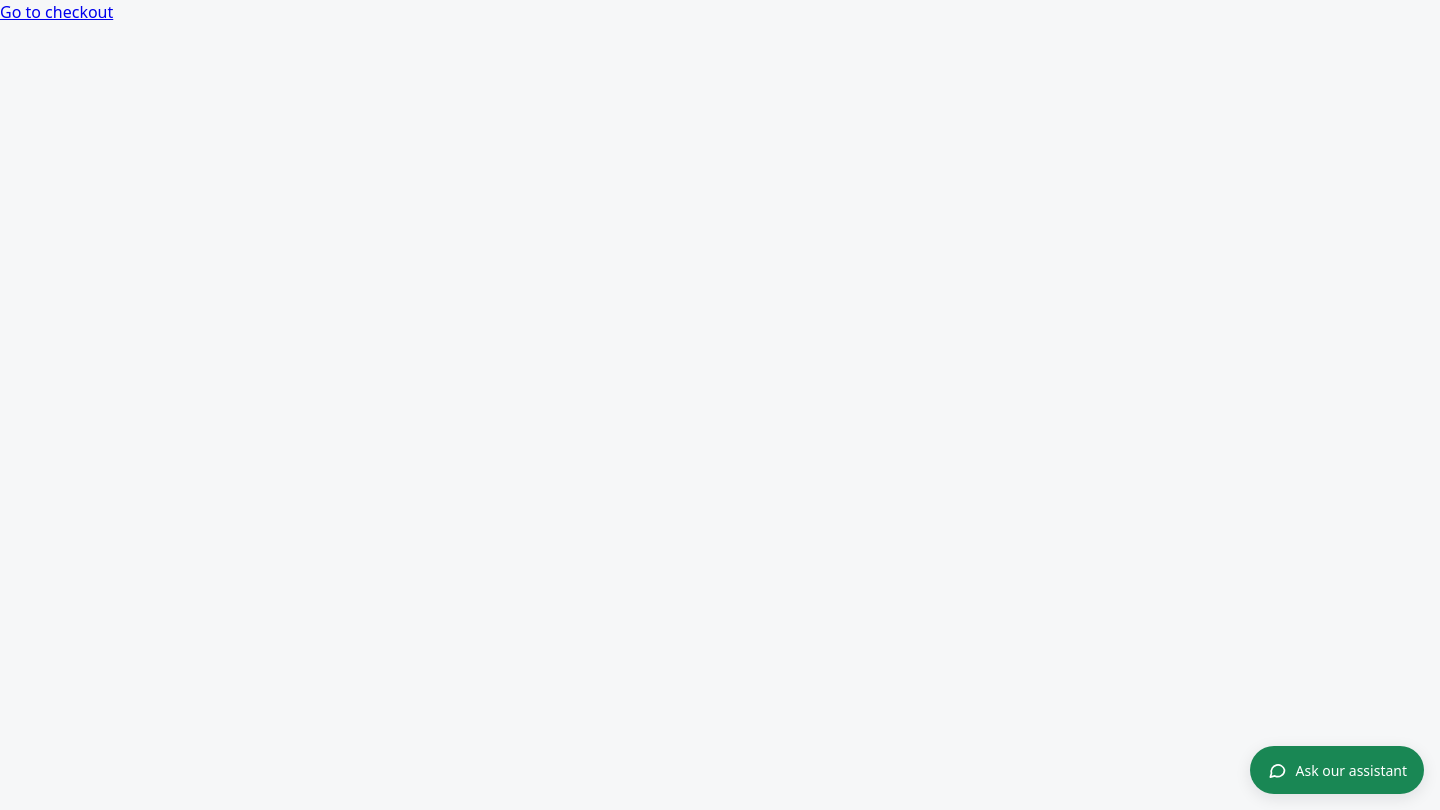
Scenario: ChatWidget › opens from the button with the focus in the message field, and closes with Escape, back to the button
The width and height of the screenshot is (1440, 810).
Click the button "Ask our assistant".
click(1337, 770)  # box x1=1250 y1=746 x2=1424 y2=794
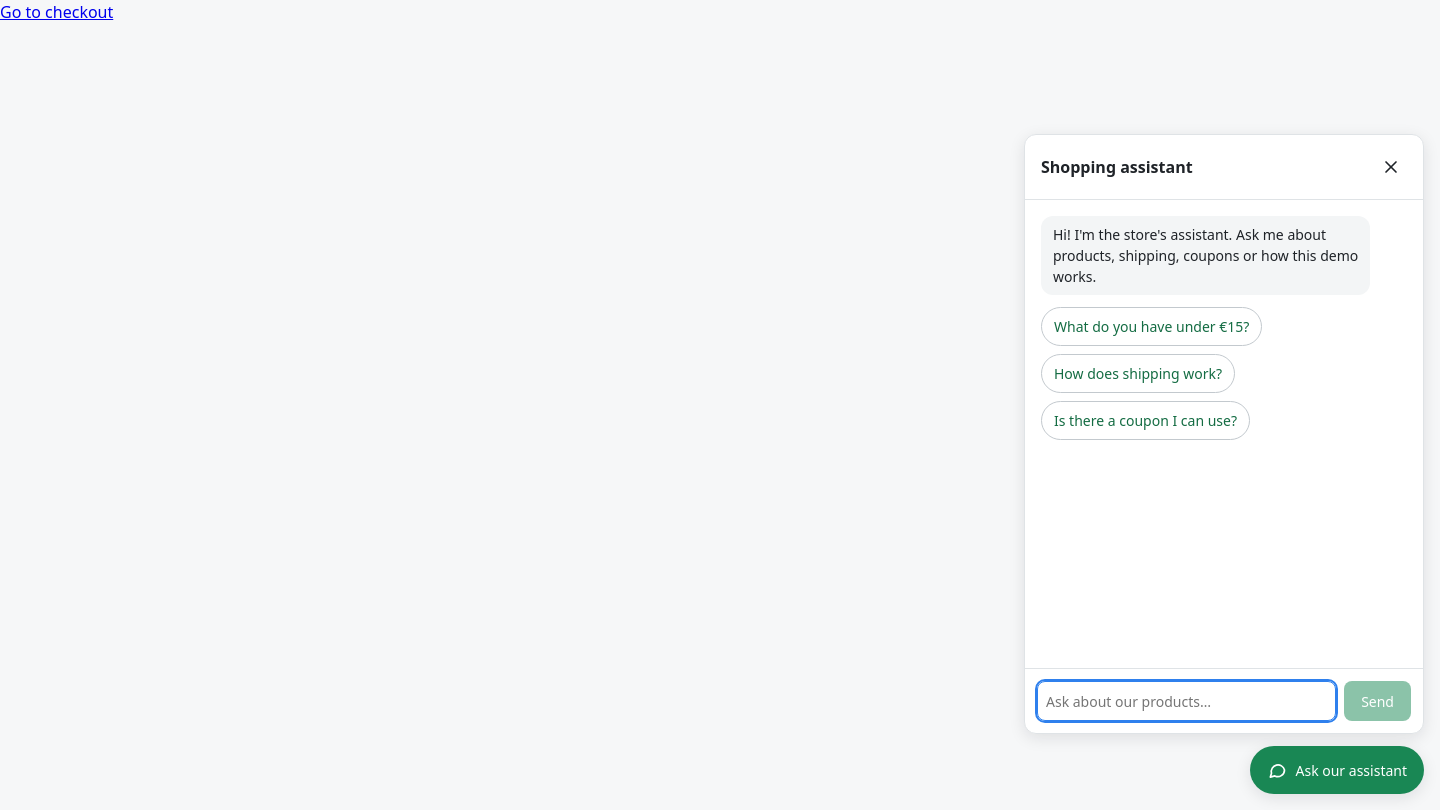
expect the text "I'm the store's assistant" is shown: met, box x1=1053 y1=225 x2=1362 y2=286
Press Escape
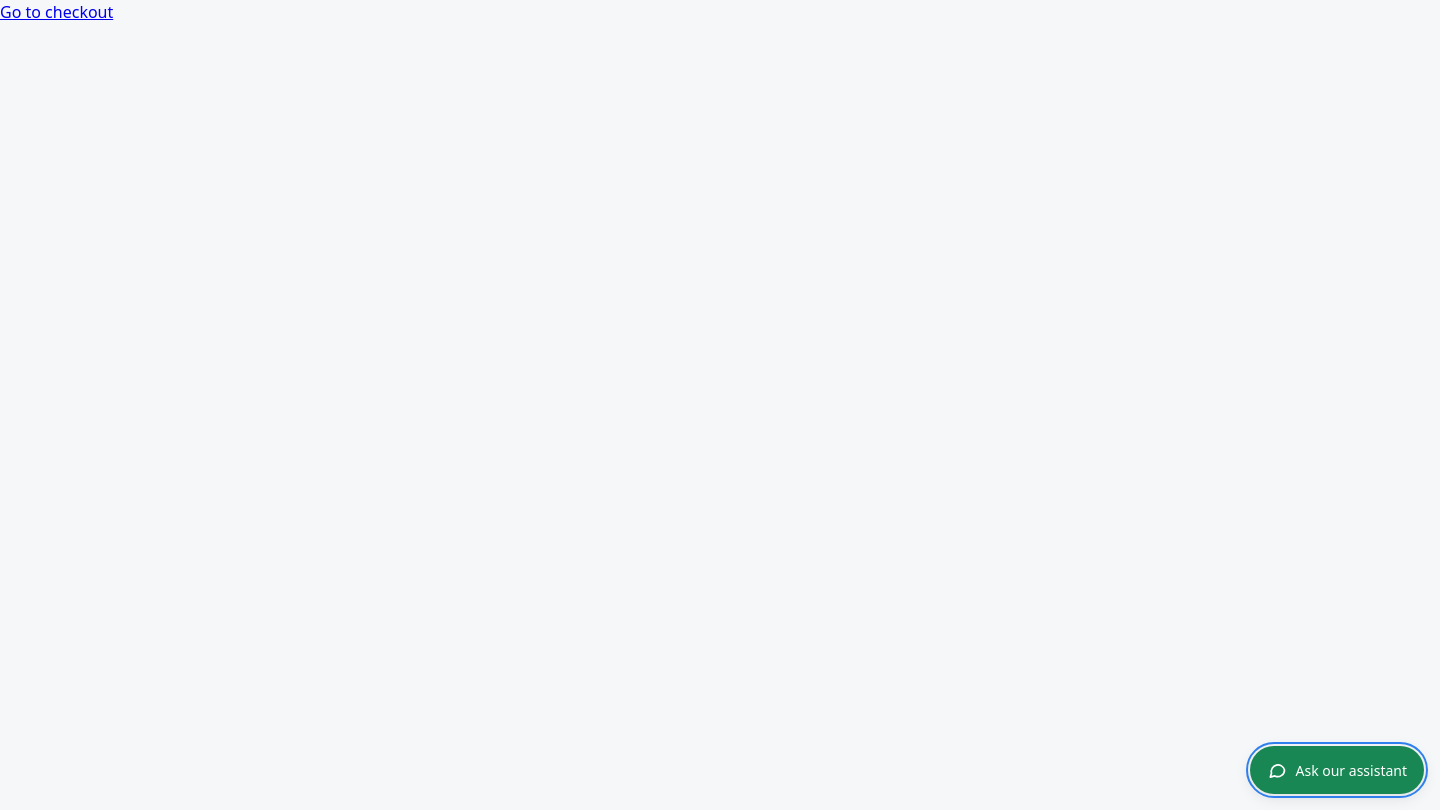
expect the dialog with test id "chat-panel" is gone: met
Click the button "Ask our assistant".
click(1337, 770)  # box x1=1250 y1=746 x2=1424 y2=794
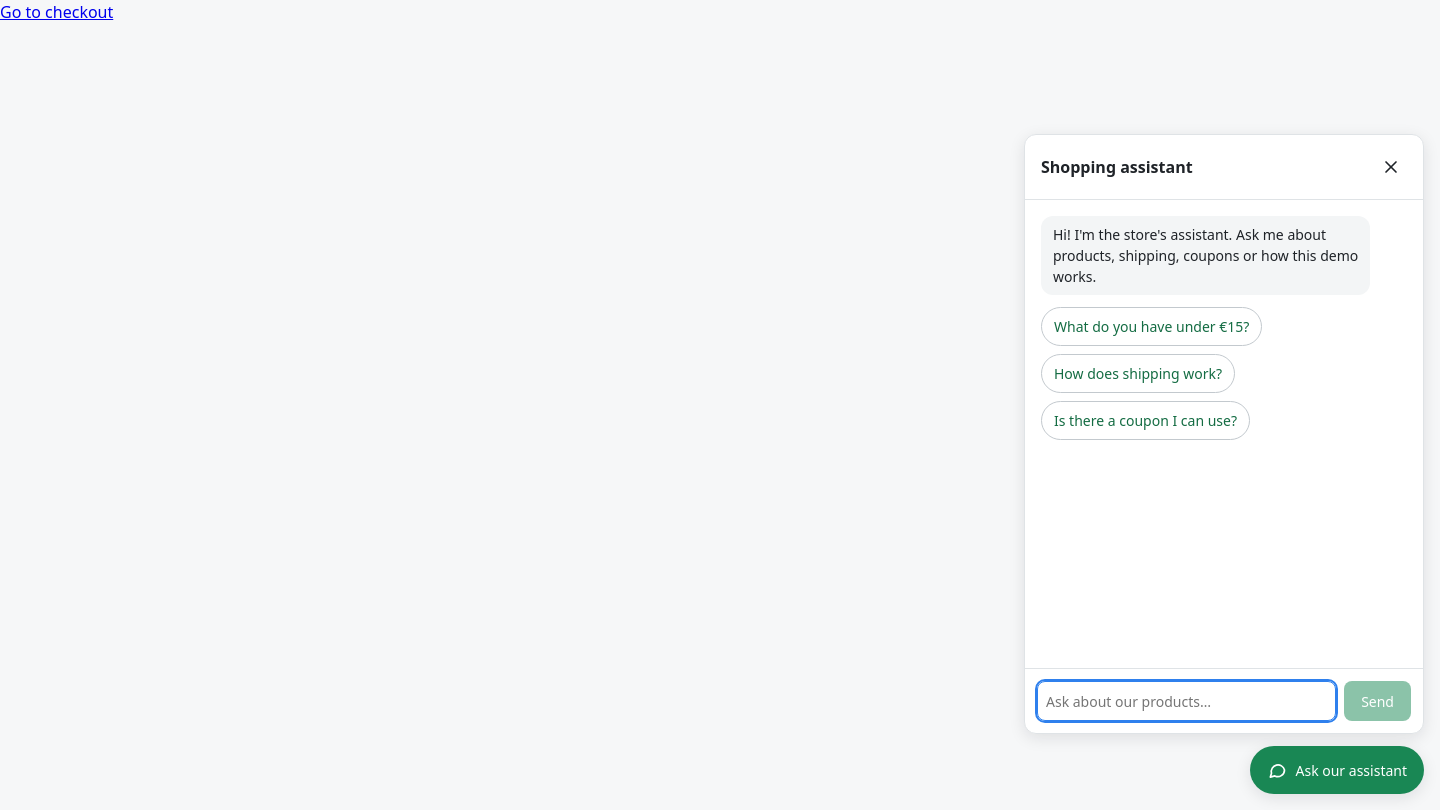
Click the button named "Close the assistant".
click(1391, 167)  # box x1=1371 y1=147 x2=1411 y2=187
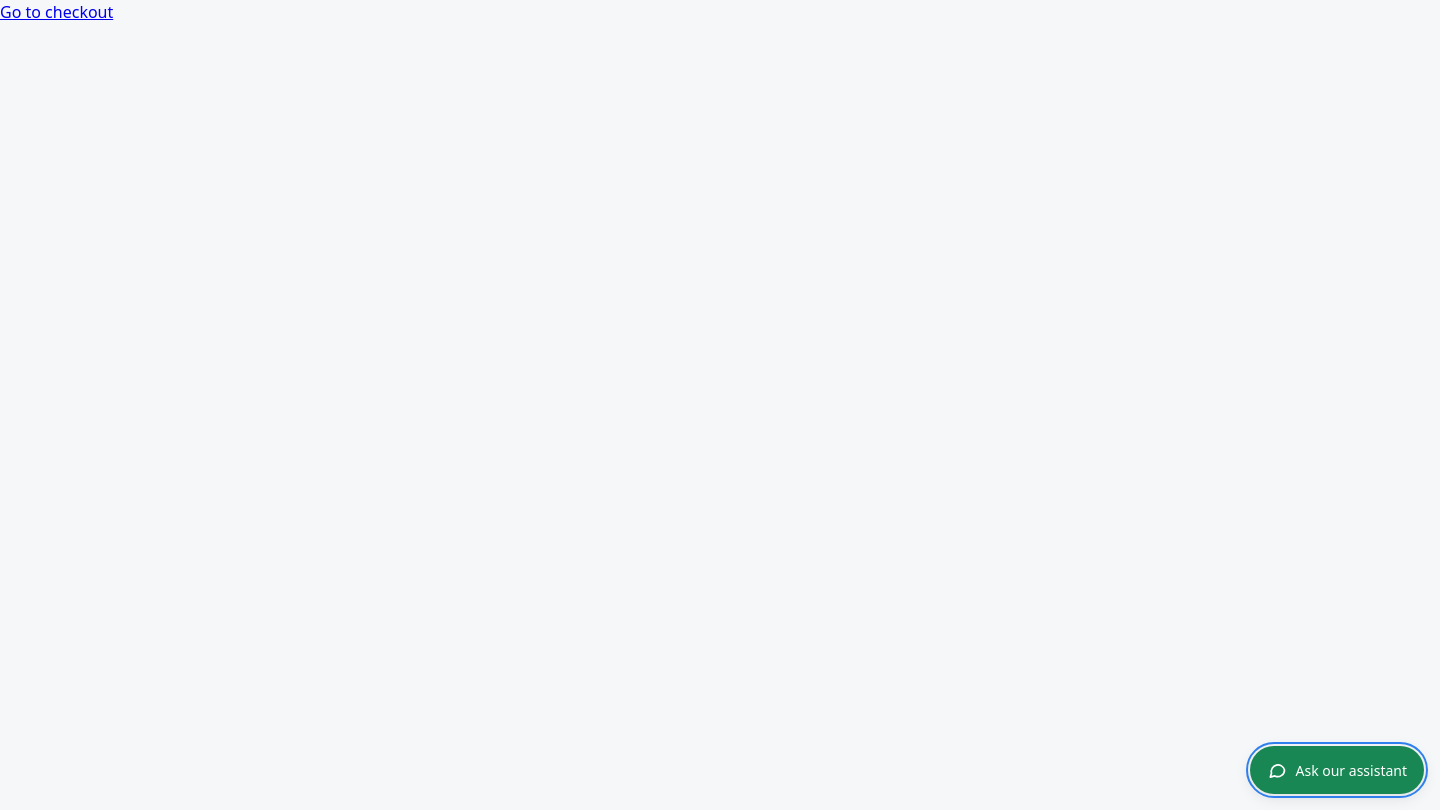
expect the dialog with test id "chat-panel" is gone: met
